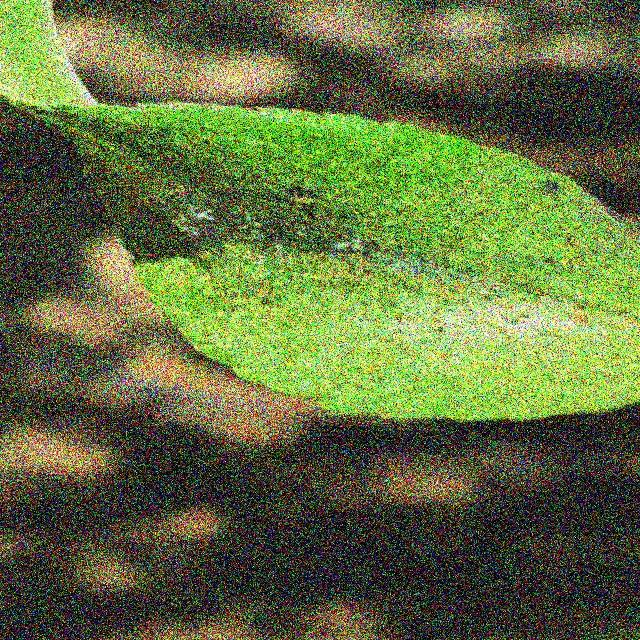shot_hole: (24, 137, 640, 402)
